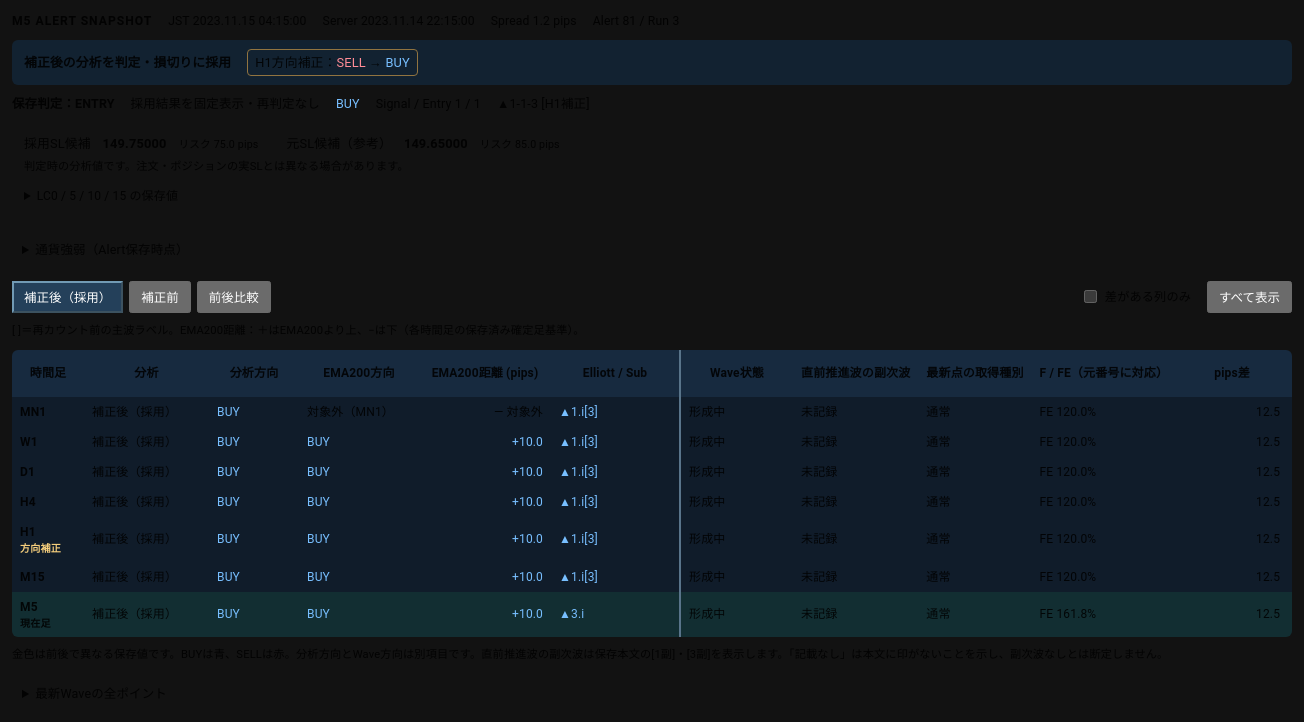
M5 Alert corrected snapshots › joins points within their own analysis even when parent and point IDs overlap
expect the cell "FE 161.8%" is shown: met, box [1032, 592, 1176, 637]
Click the button "補正前" at (160, 297), box [129, 281, 191, 313]
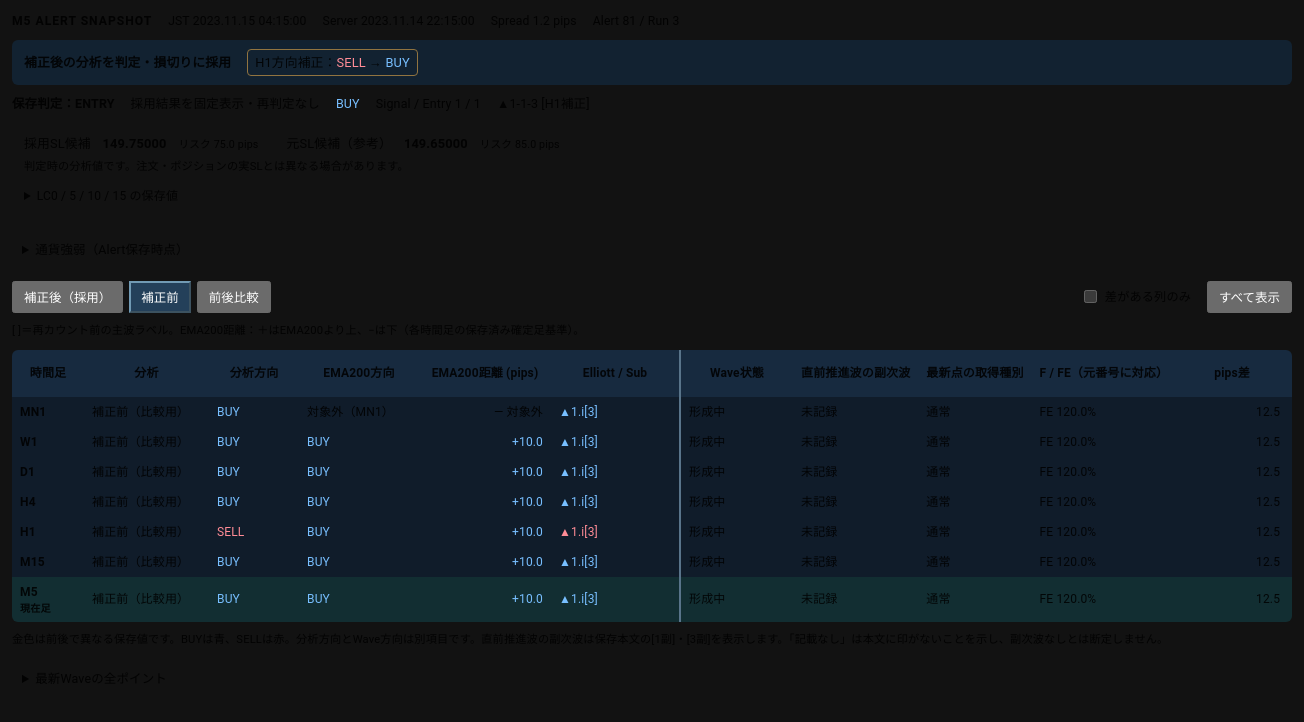
expect the cell "FE 120.0%" in the row of "現在足" is shown: met, box [1040, 592, 1096, 606]
